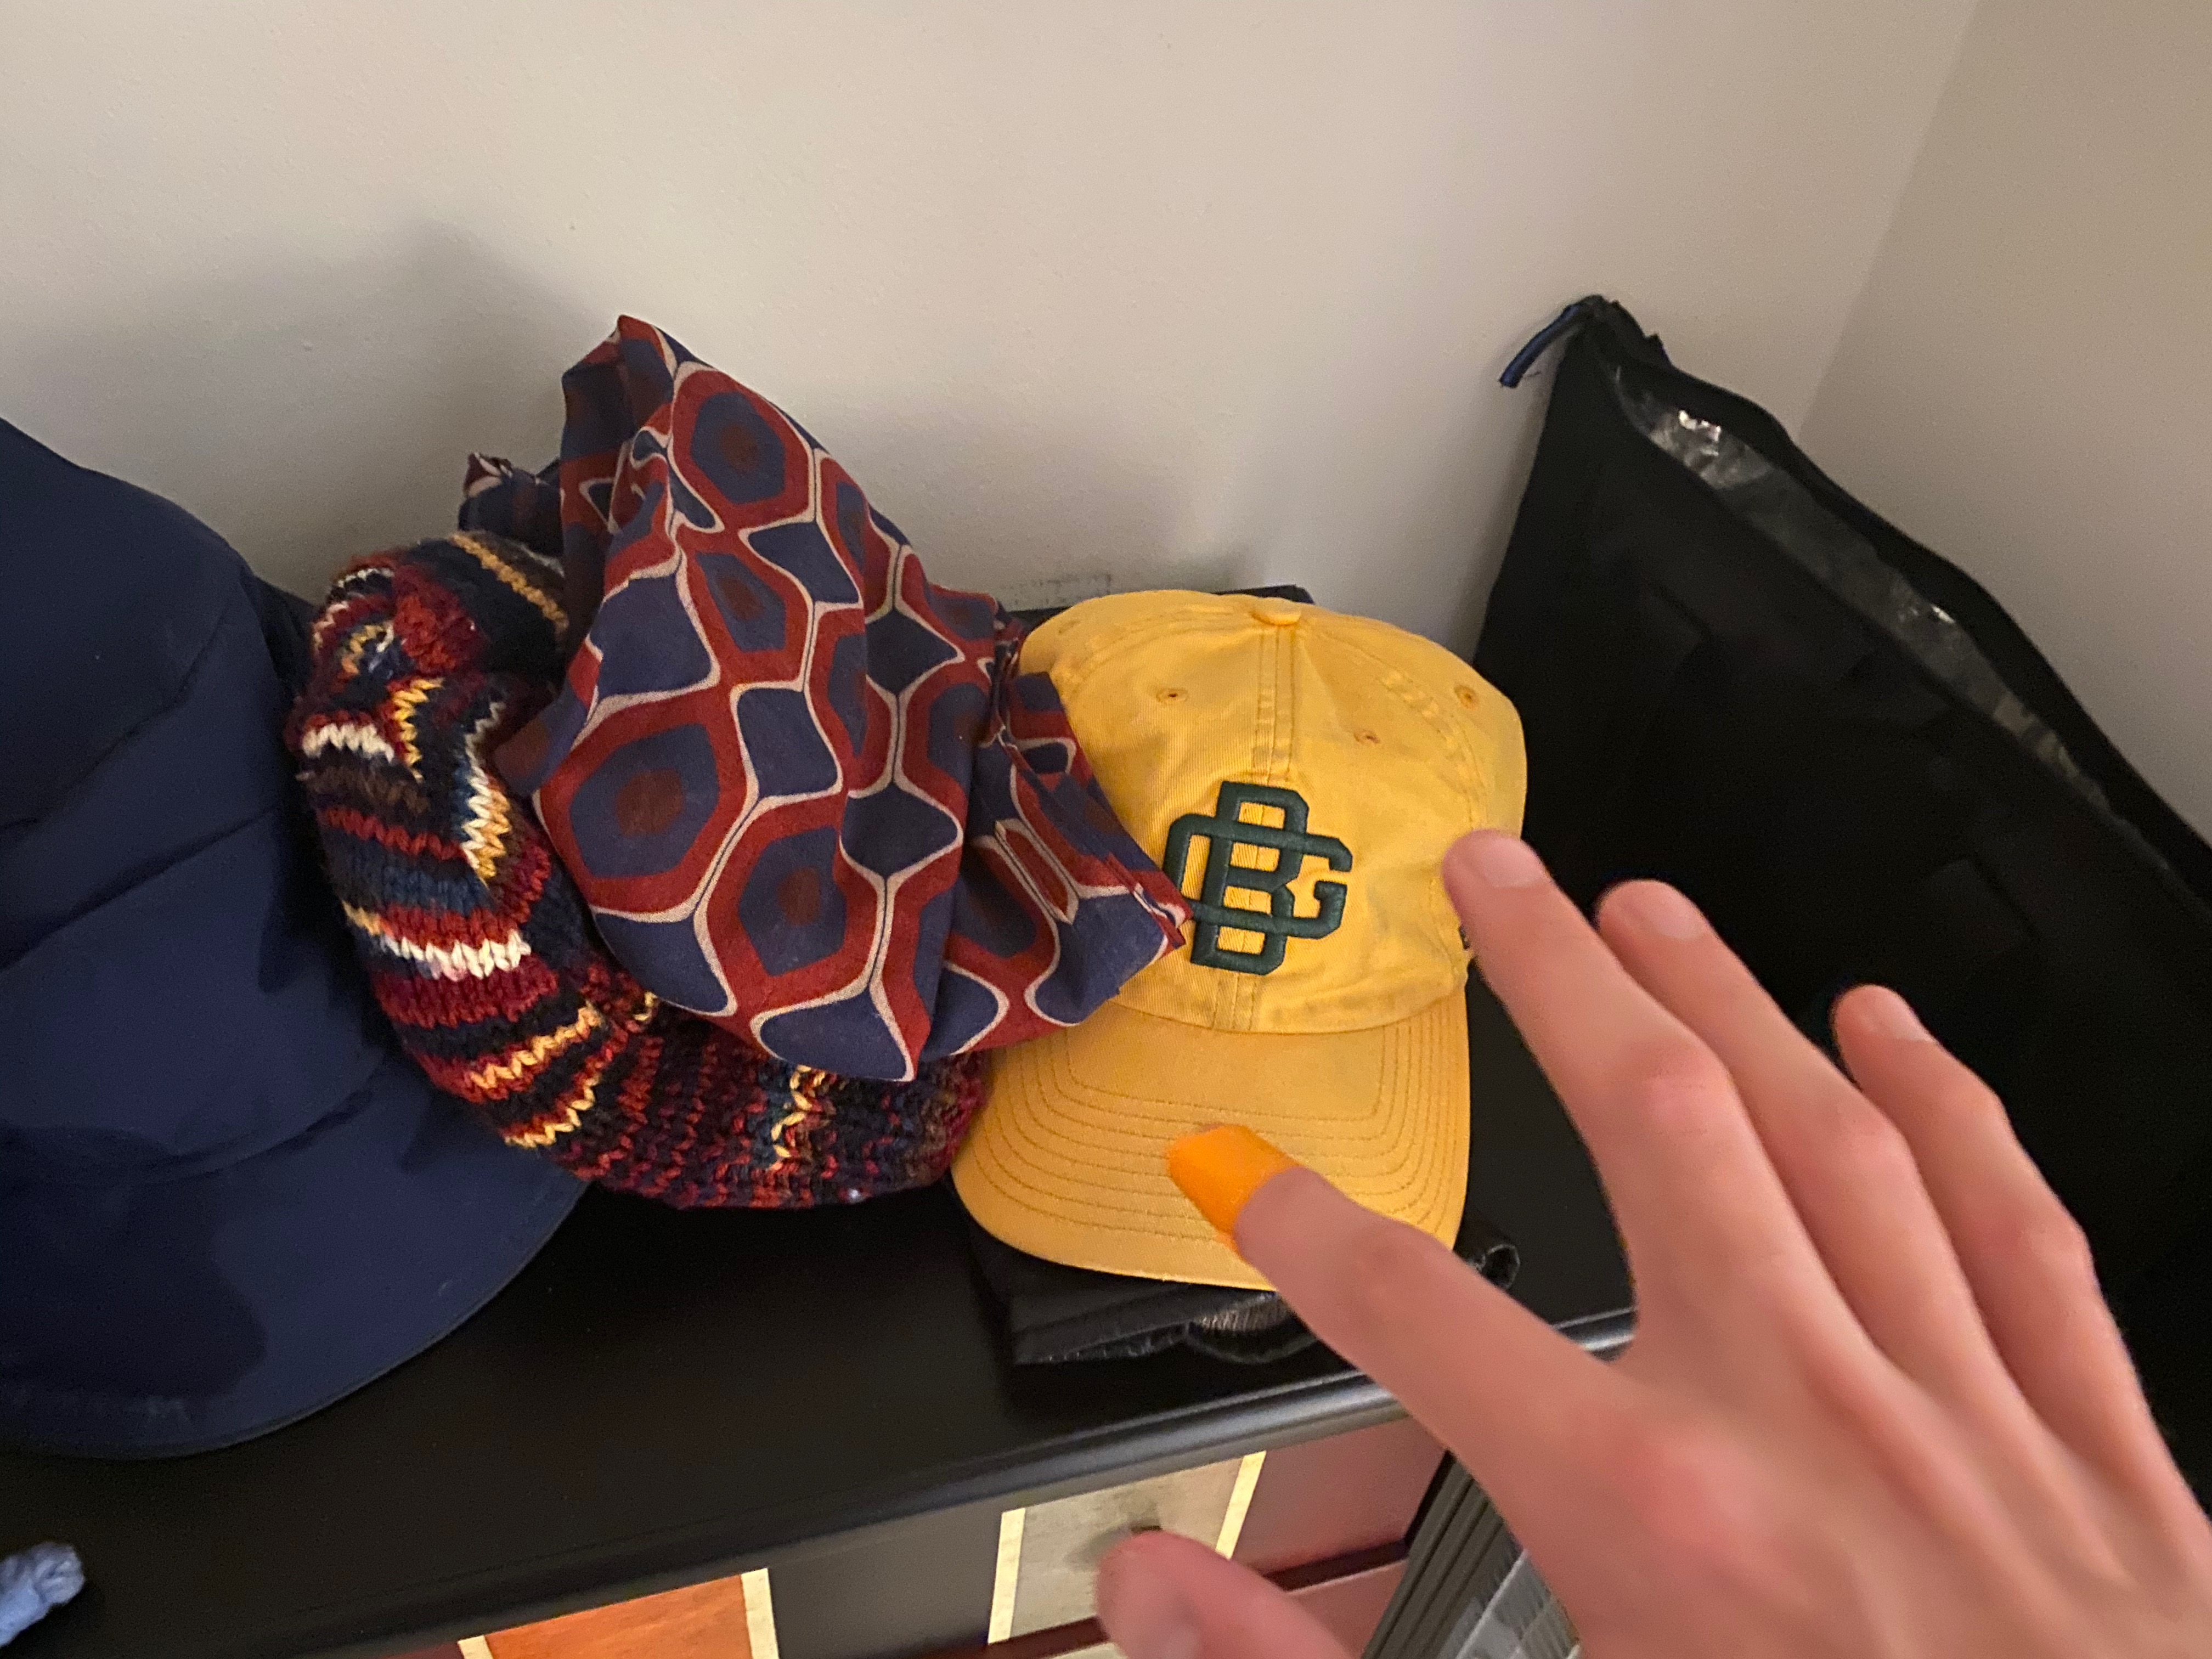fingertip: (1146, 1112, 1352, 1263)
